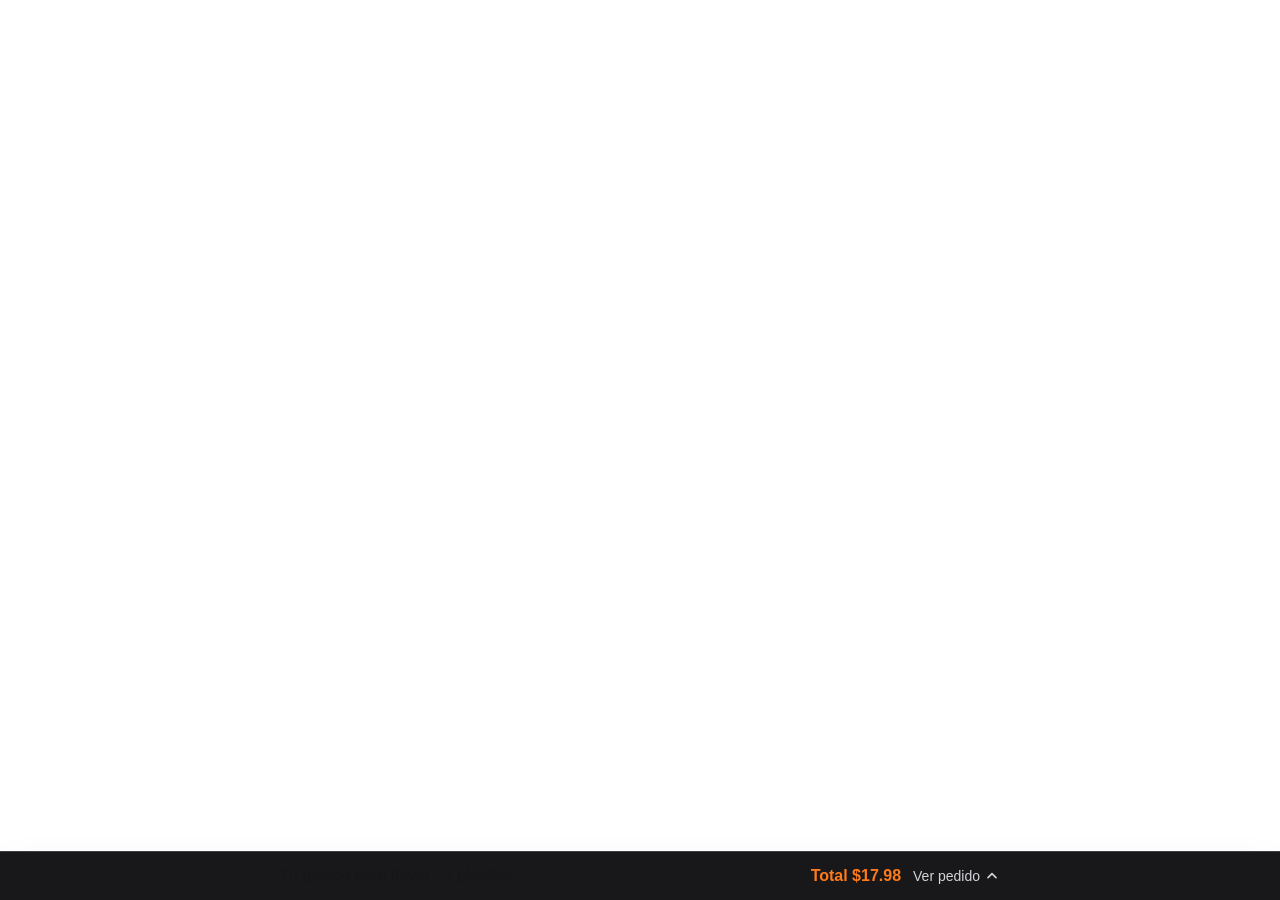
Test: CarritoLlevar › no confirma con el nombre «»
Click the button "Tu pedido para llevar · 2 platillos Total $17.98 Ver pedido" at (362, 876), box [280,864,1000,888]
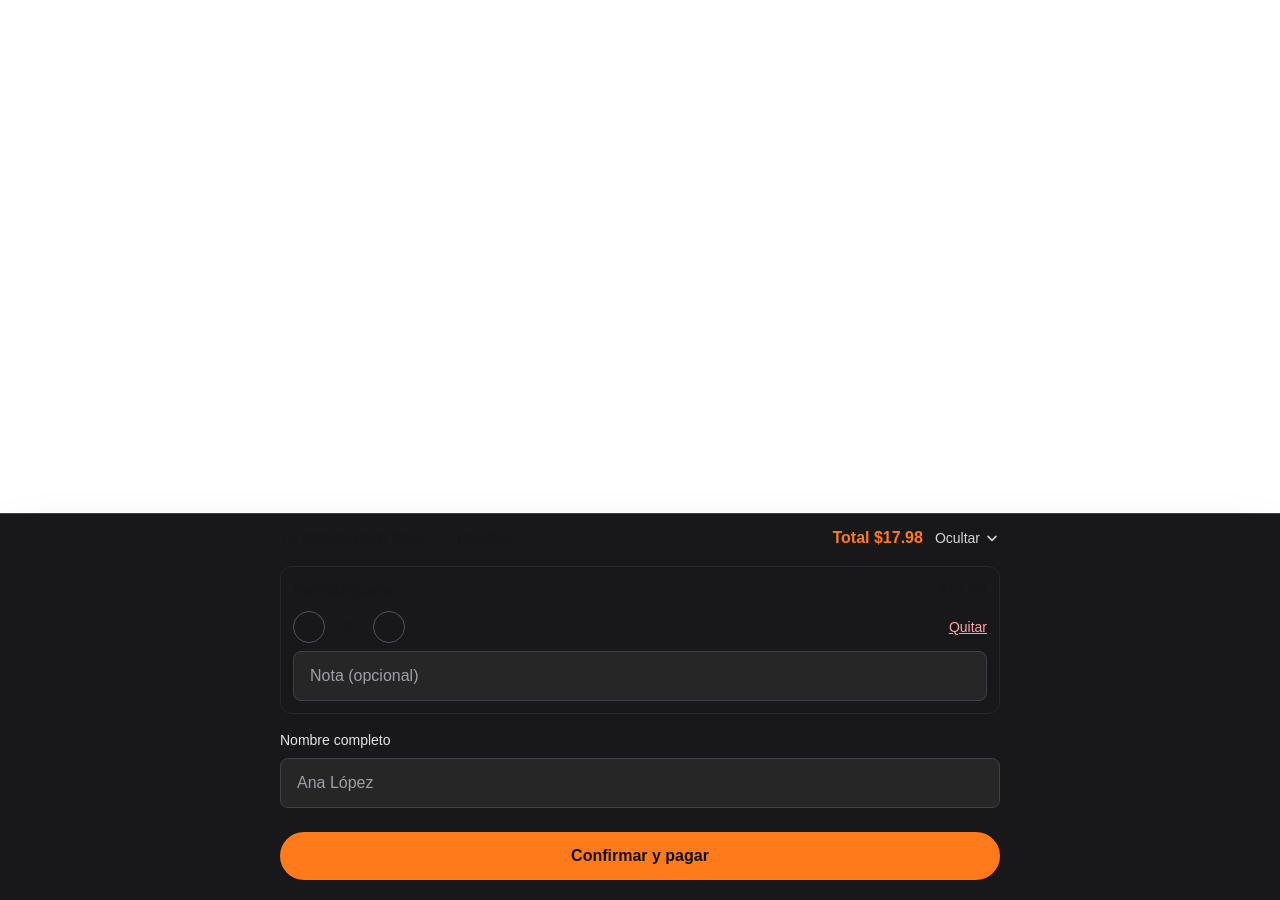
Click the button "Confirmar y pagar" at (640, 856), box [280,832,1000,880]
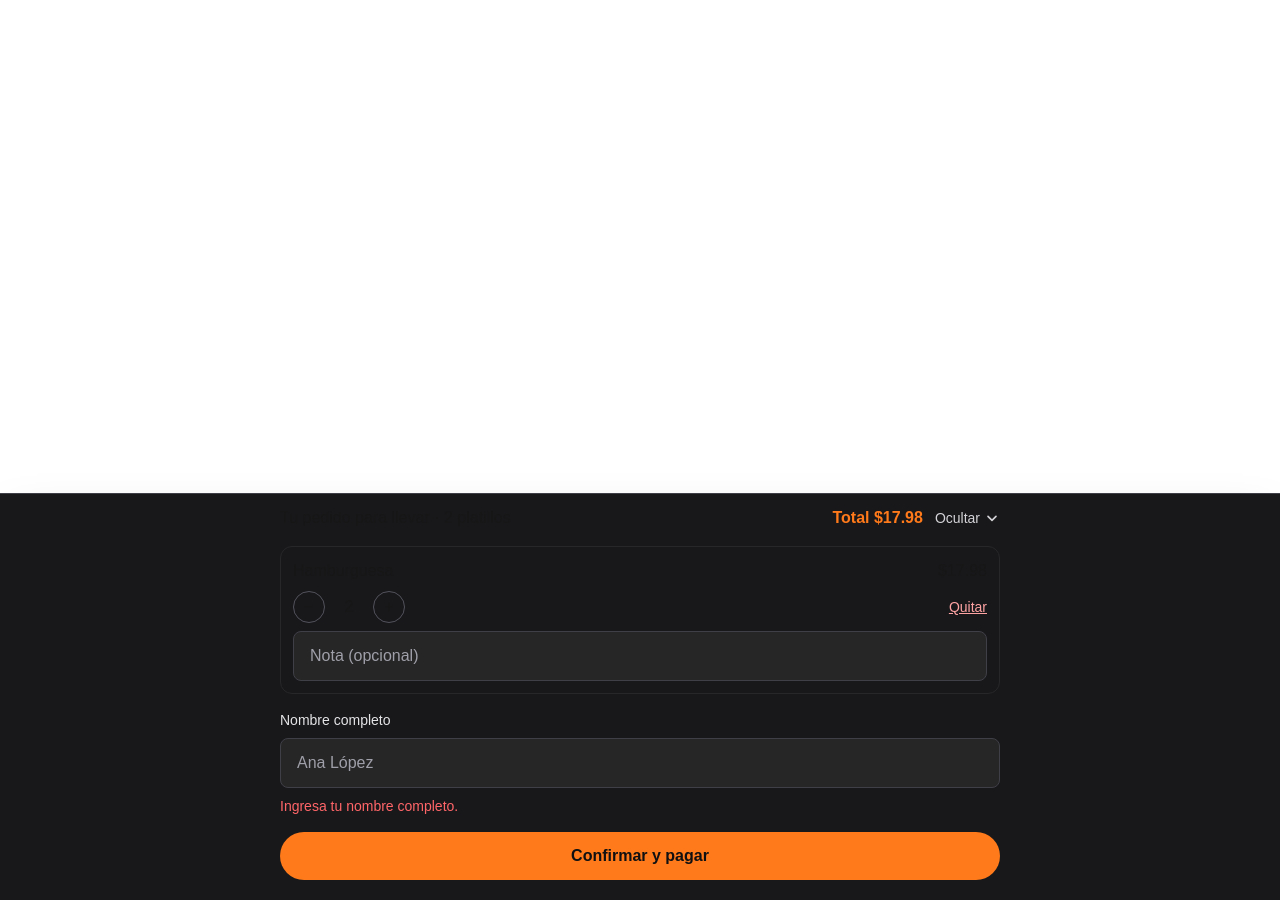
Result: the text "Ingresa tu nombre completo." is shown at [280,798,458,814]
